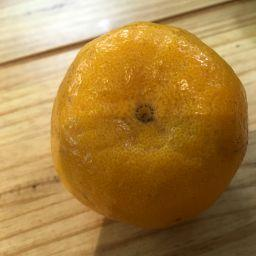Ripe: (50, 24, 249, 227)
